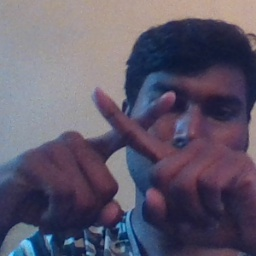X: (67, 73, 199, 216)
